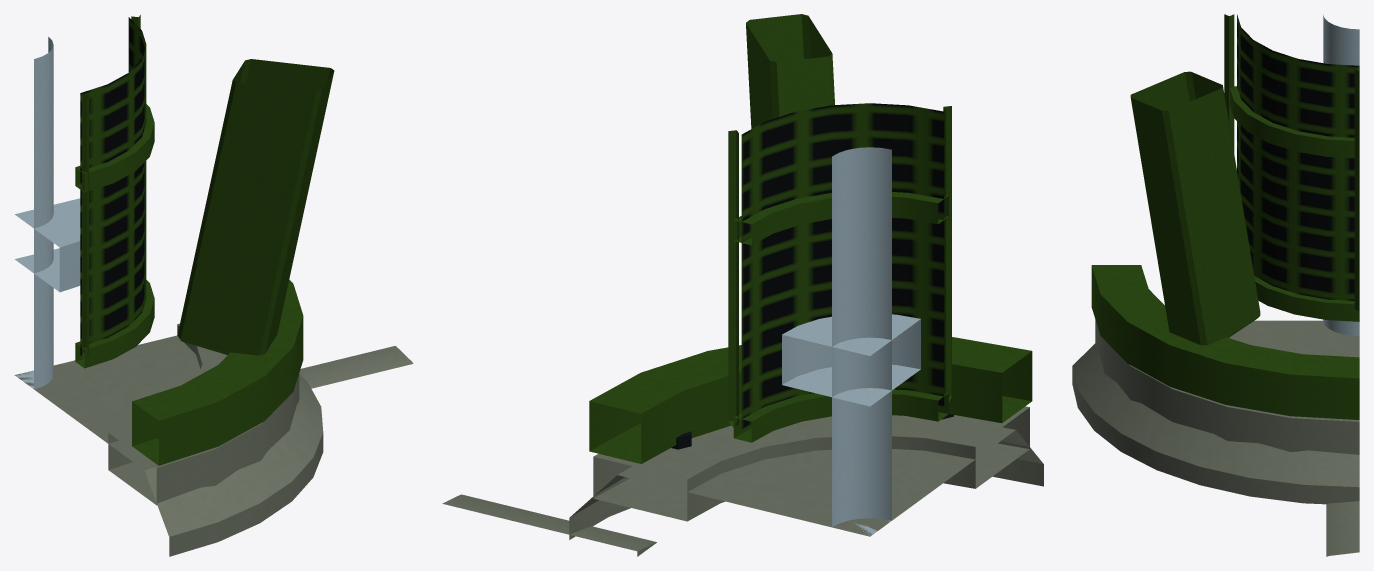
File: cell_14.obj
3 renders of one model, left to right at view 1: azimuth 30°, elevation 25°; view 2: azimuth 150°, elevation 25°; view 3: azimuth 270°, elevation 25°, orthographic. The views are drawn at different scales.
Parts seen in each view (by area): view 1: cell_14; view 2: cell_14; view 3: cell_14.
Part boxes in pixels (x1,y1,x2,y2): cell_14: (14, 15, 413, 556); cell_14: (442, 14, 1043, 556); cell_14: (1072, 14, 1359, 556).
Bounding box in the file's own units: 1 × 1 × 0.7031.
